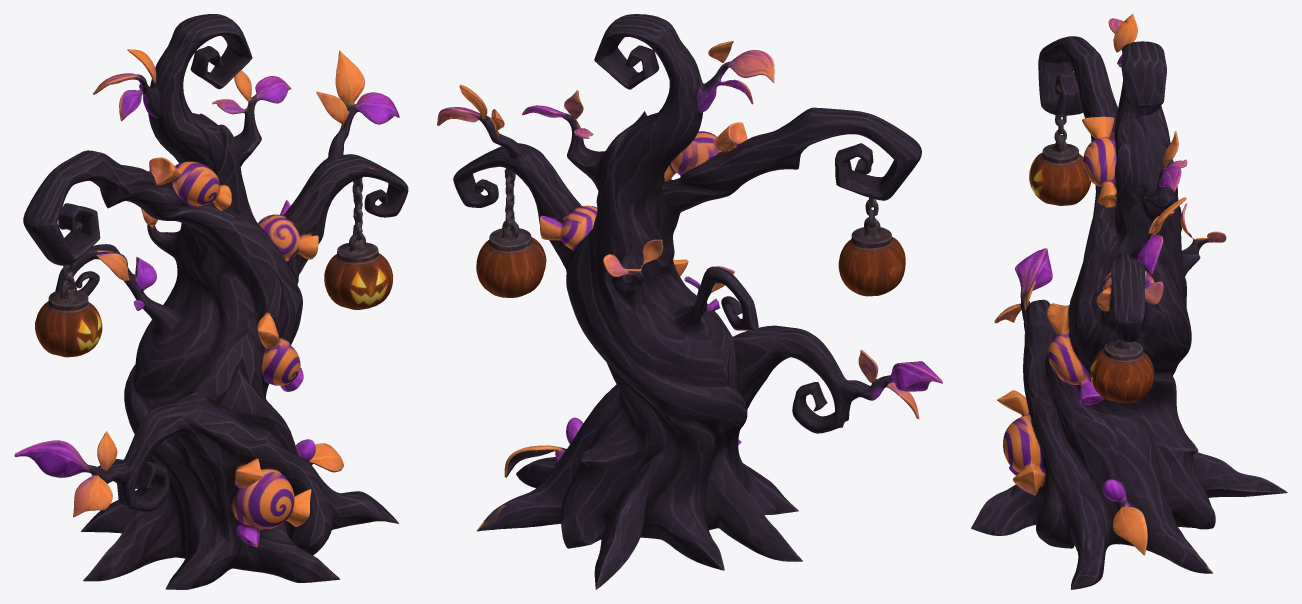
Rendered from Chaseween_Candy_Tree.glb.
The picture shows the model from 3 angles, left to right: view 1: azimuth 30°, elevation 25°; view 2: azimuth 150°, elevation 25°; view 3: azimuth 270°, elevation 25°; orthographic projection. The views are drawn at different scales.
Parts seen in each view (by area): view 1: Mesh_0; view 2: Mesh_0; view 3: Mesh_0.
Boxes of the visible parts, box(x1,y1,x2,y2) form: Mesh_0: box(14, 14, 408, 589); Mesh_0: box(437, 14, 942, 589); Mesh_0: box(971, 14, 1287, 589).
Bounding box in the file's own units: 1.71 × 1.9 × 1.15.
1 material, 1 textured.
